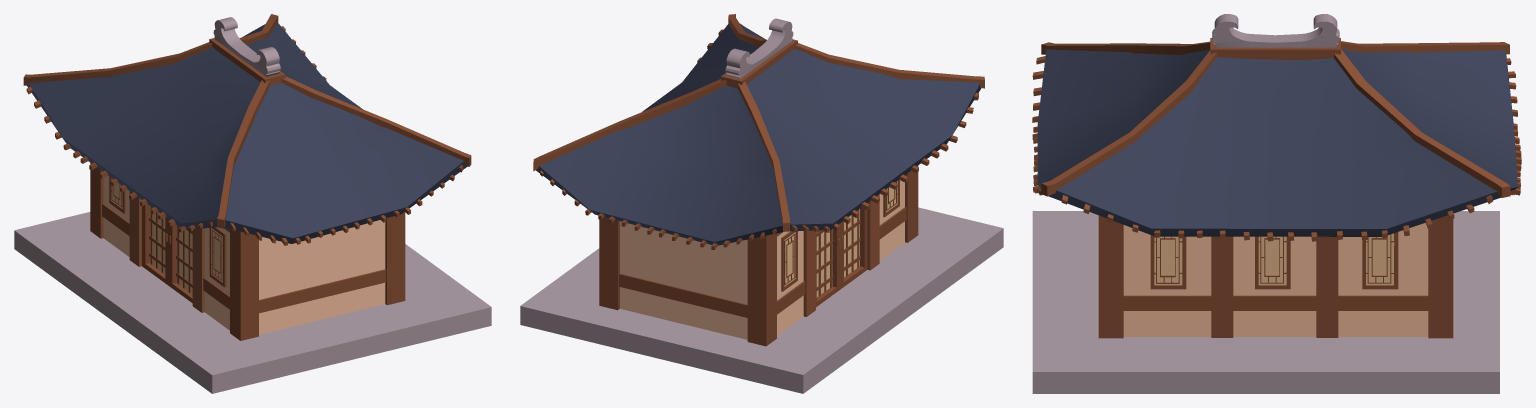
File: houme016_1.fbx
3 renders of one model, left to right at view 1: azimuth 30°, elevation 25°; view 2: azimuth 150°, elevation 25°; view 3: azimuth 270°, elevation 25°, orthographic. The views are drawn at different scales.
Visible parts, largest first — view 1: houme16_1, foundation_16_1_1, on_the_roof_16_1_1; view 2: houme16_1, foundation_16_1_1, on_the_roof_16_1_1; view 3: houme16_1, foundation_16_1_1, on_the_roof_16_1_1.
Boxes of the visible parts, bbox=[...] form: houme16_1: bbox=[23, 14, 471, 340]; foundation_16_1_1: bbox=[14, 212, 491, 393]; on_the_roof_16_1_1: bbox=[213, 17, 280, 76]; houme16_1: bbox=[533, 14, 984, 346]; foundation_16_1_1: bbox=[520, 207, 1003, 393]; on_the_roof_16_1_1: bbox=[725, 18, 793, 78]; houme16_1: bbox=[1032, 38, 1521, 338]; foundation_16_1_1: bbox=[1032, 211, 1499, 393]; on_the_roof_16_1_1: bbox=[1212, 14, 1339, 47].
Size of the model in its own units: 1131 by 967 by 1455.
